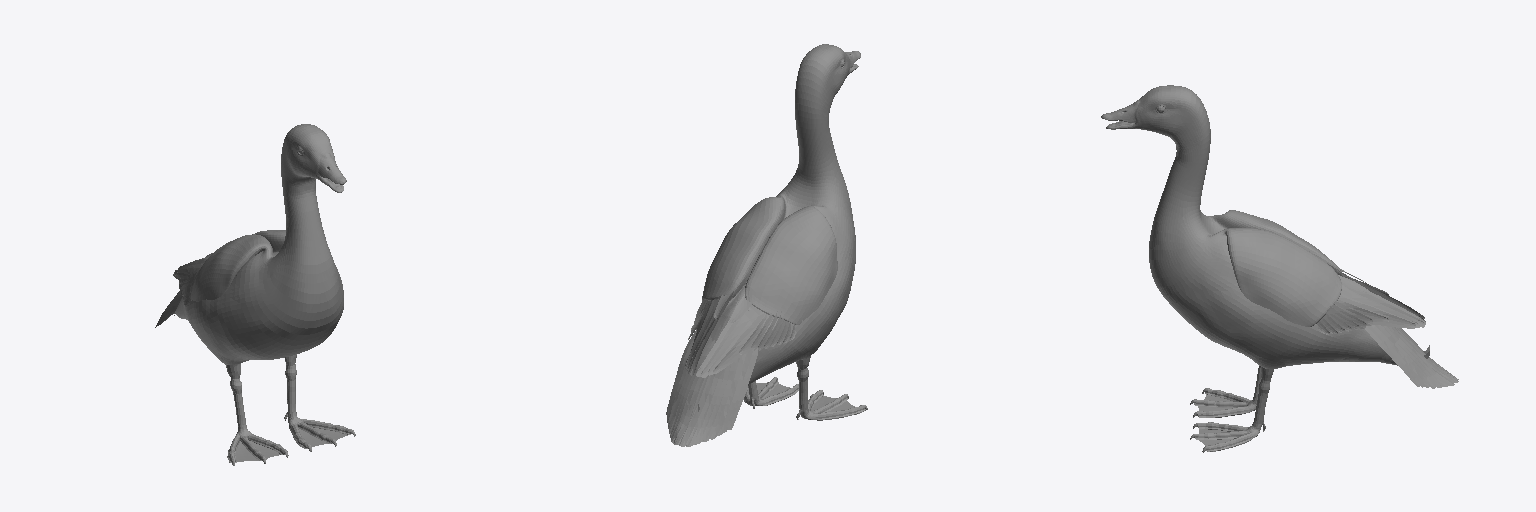
File: goose.obj
3 views of the same model, side by side, from view 1: azimuth 30°, elevation 25°; view 2: azimuth 150°, elevation 25°; view 3: azimuth 270°, elevation 25° (orthographic).
Visible parts, largest first — view 1: body, right_leg, left_leg, beak; view 2: body, right_leg, left_leg; view 3: body, left_leg, right_leg, beak.
Part boxes in pixels (left/top/right/bottom): body: left=155, top=124, right=343, bottom=364; right_leg: left=225, top=364, right=288, bottom=465; left_leg: left=284, top=354, right=355, bottom=451; beak: left=318, top=156, right=346, bottom=192; body: left=666, top=44, right=855, bottom=446; right_leg: left=796, top=356, right=867, bottom=420; left_leg: left=744, top=377, right=798, bottom=408; body: left=1135, top=85, right=1458, bottom=388; left_leg: left=1190, top=367, right=1273, bottom=452; right_leg: left=1190, top=366, right=1261, bottom=417; beak: left=1101, top=102, right=1134, bottom=129.
Size of the model in its own units: 0.5058 by 1.31 by 1.27.